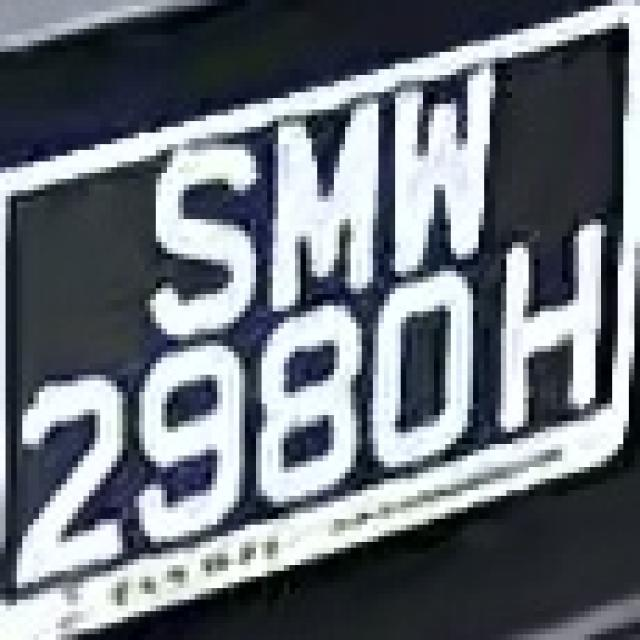0: (362, 288, 473, 467)
2: (0, 358, 139, 606)
8: (256, 306, 373, 513)
9: (128, 334, 245, 542)
H: (495, 202, 601, 450)
M: (239, 81, 384, 300)
S: (134, 121, 272, 346)
W: (367, 58, 512, 254)
